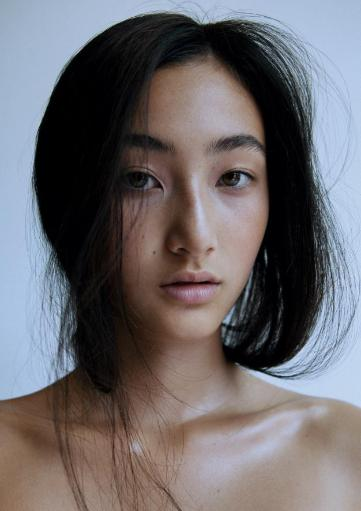left_eye: (215, 170, 258, 194)
left_lip_corner: (215, 279, 227, 296)
right_eye: (122, 170, 165, 196)
right_lip_corner: (159, 280, 172, 301)
